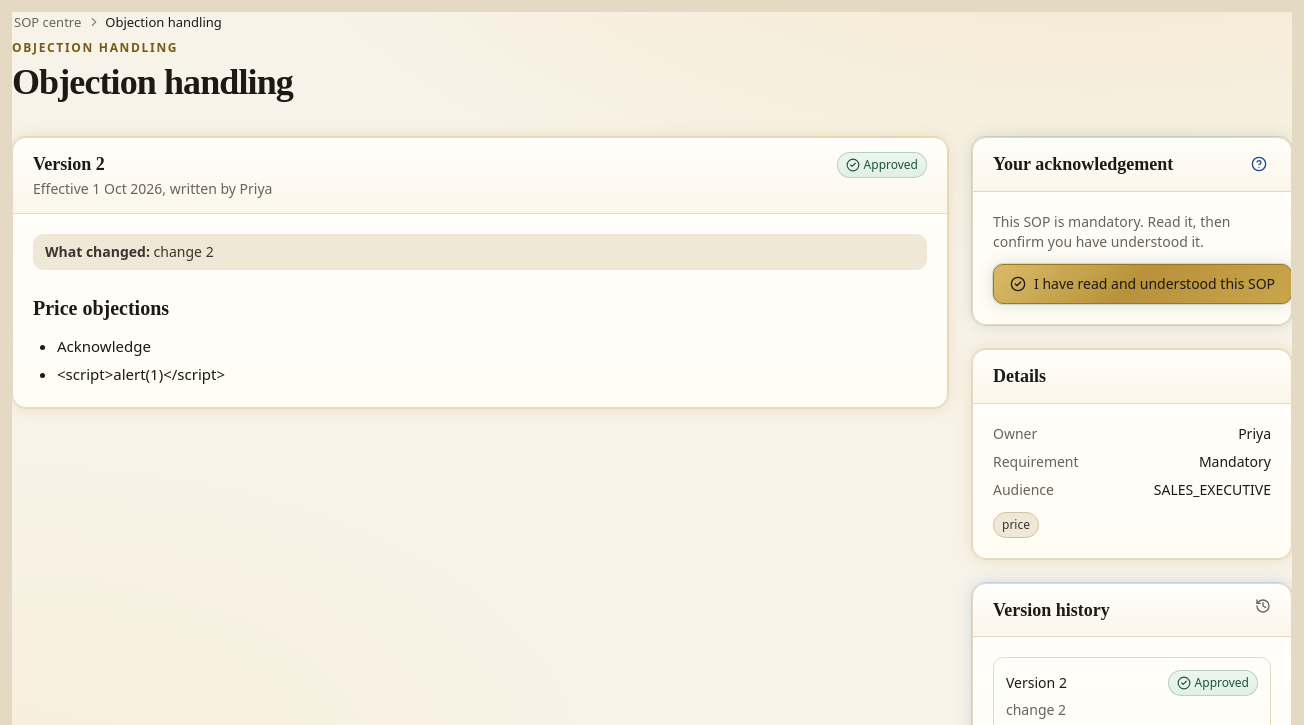
it: SOP reader › shows the failure and keeps the button when the acknowledgement fails
The width and height of the screenshot is (1304, 725).
Click the button "I have read and understood this SOP" at (1142, 284), box [993, 264, 1292, 304]
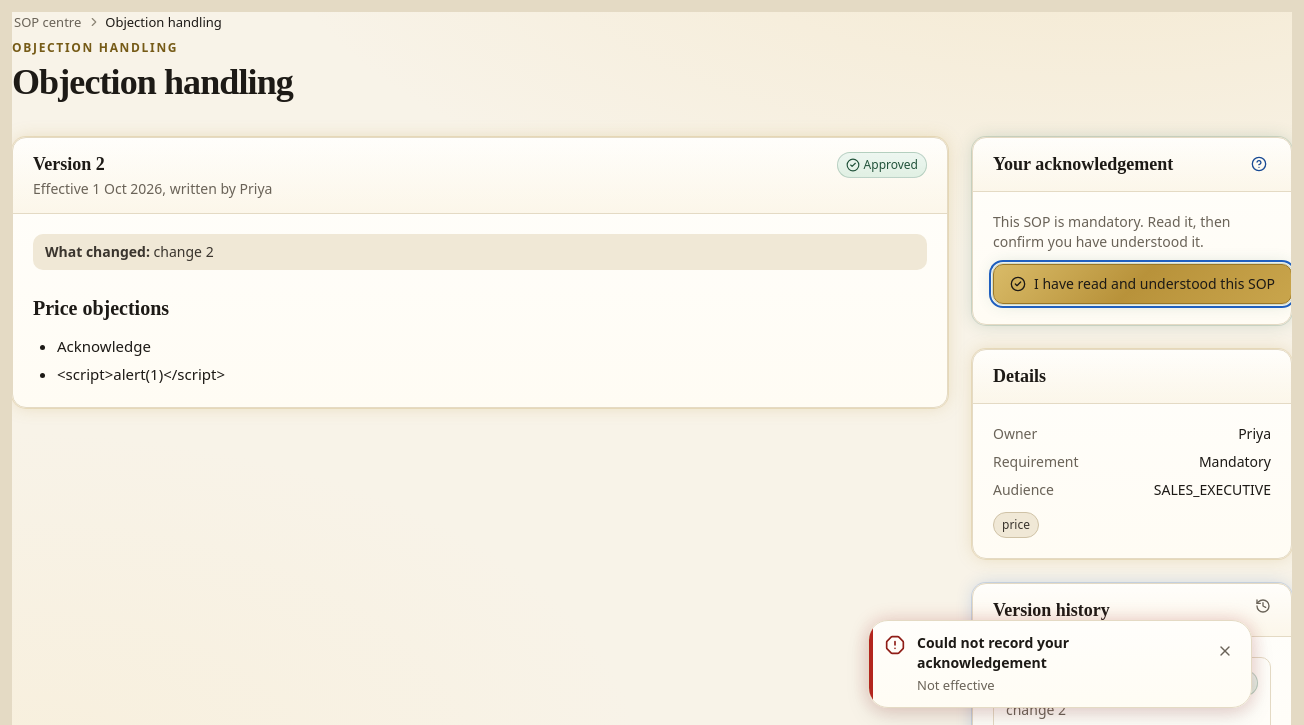
Result: the text "Could not record your acknowledgement" is shown at [917, 633, 1069, 672]
